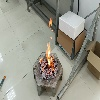fire: (39, 43, 54, 74), (49, 16, 52, 31)
